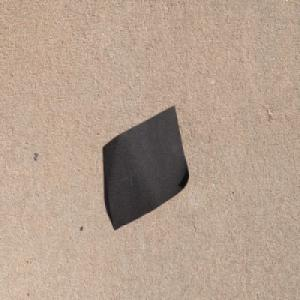PaintChip: (102, 104, 189, 231)
